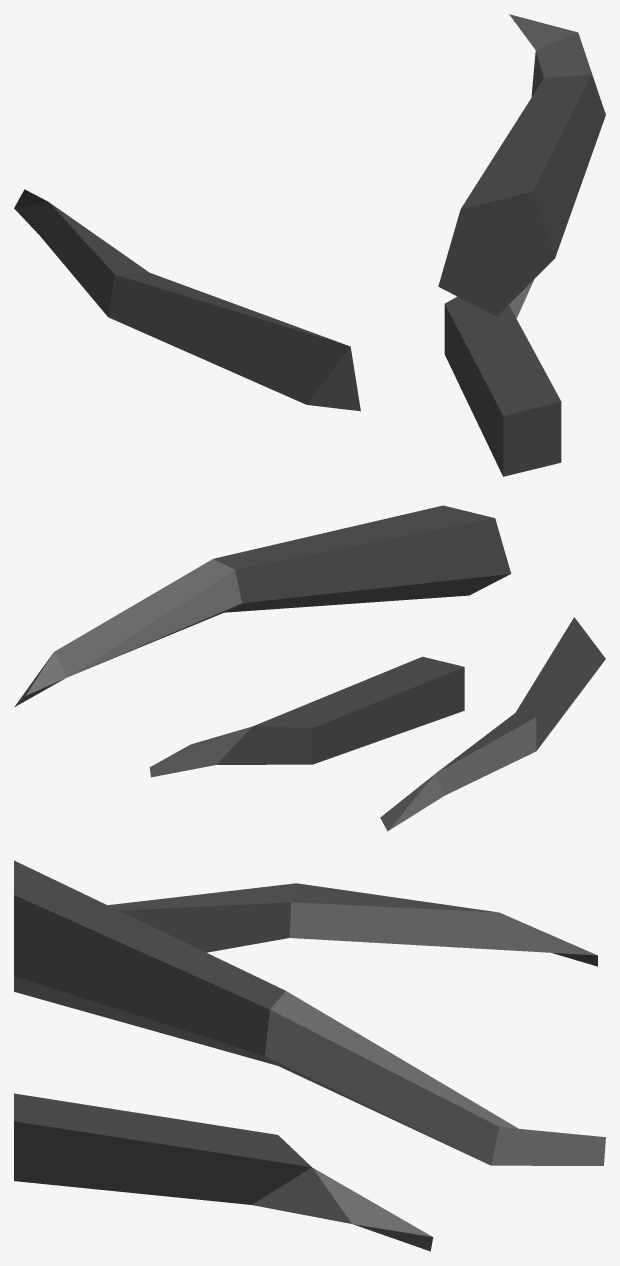
The model's file is winter_night_stick_3.fbx.
3 views of the same model, one above another, from view 1: azimuth 30°, elevation 25°; view 2: azimuth 150°, elevation 25°; view 3: azimuth 270°, elevation 25° (orthographic). The views are drawn at different scales.
Parts seen in each view (by area): view 1: winter_night_stick_3; view 2: winter_night_stick_3; view 3: winter_night_stick_3.
Boxes of the visible parts, left/top/right/bottom form: winter_night_stick_3: left=14, top=14, right=605, bottom=476; winter_night_stick_3: left=14, top=505, right=605, bottom=831; winter_night_stick_3: left=14, top=860, right=605, bottom=1251.
Bounding box in the file's own units: 98.54 × 45.72 × 90.05.
